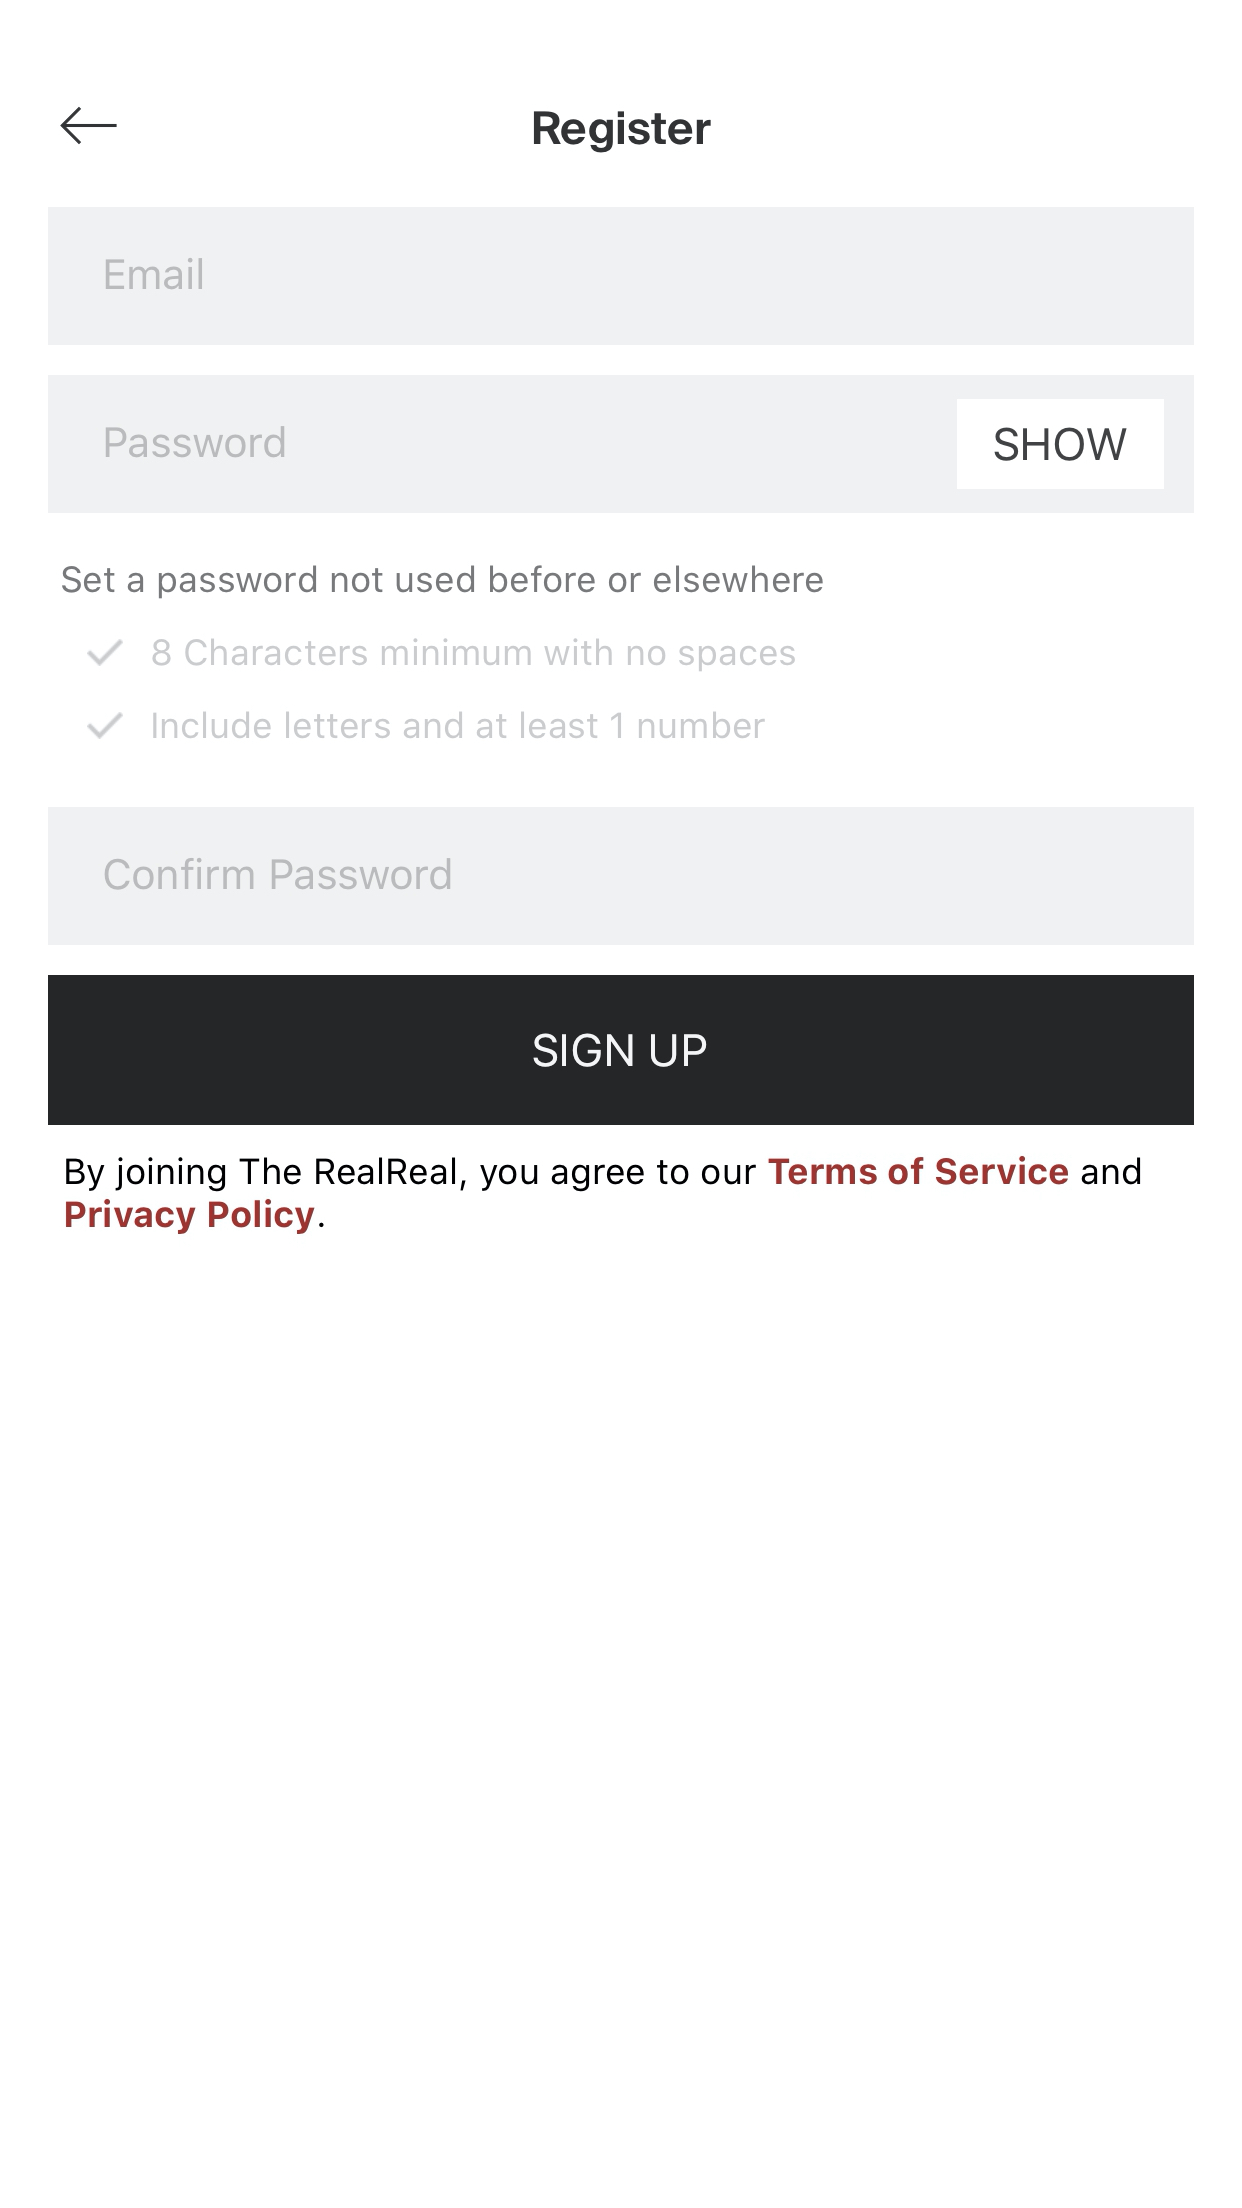EditText: (49, 808, 1193, 946), (49, 376, 1193, 514), (49, 208, 1193, 346)
Icon: (61, 108, 118, 146), (88, 713, 124, 740), (88, 640, 124, 667)
Text: (67, 1156, 1140, 1234), (64, 567, 823, 601), (153, 638, 795, 673), (155, 713, 764, 740), (105, 857, 453, 892), (534, 112, 711, 155), (106, 428, 287, 459), (106, 258, 203, 291)
TextButton: (49, 977, 1193, 1125), (957, 400, 1165, 490)
